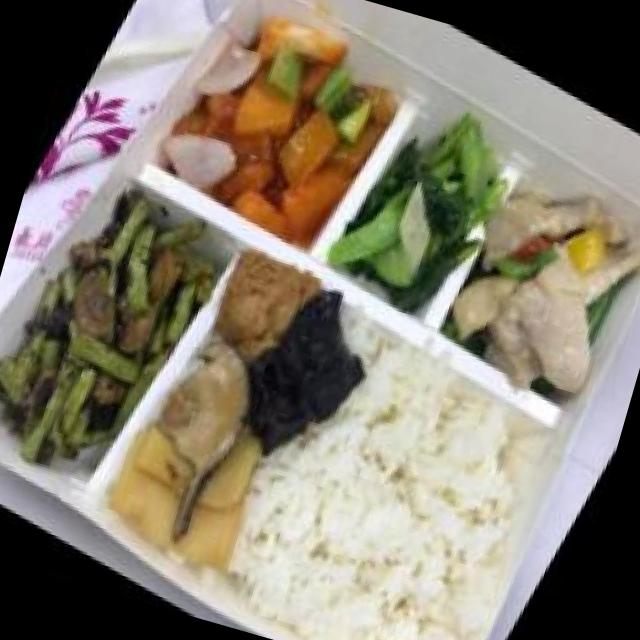rice: (188, 302, 578, 640)
